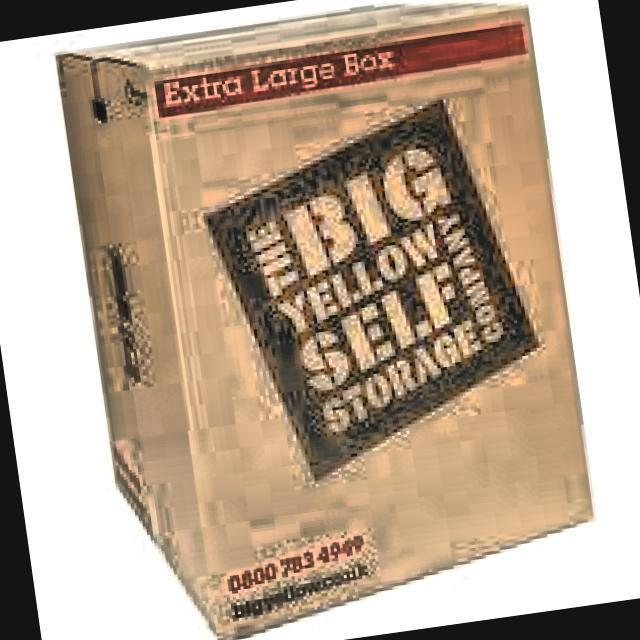cardboard: (50, 0, 610, 640)
